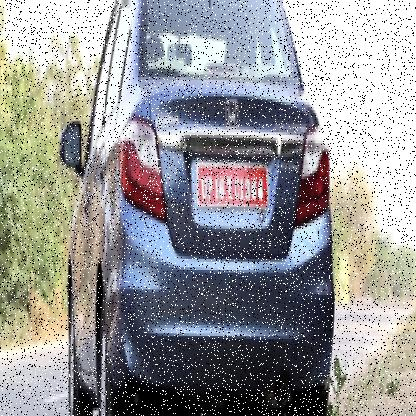licence: (196, 149, 268, 212)
